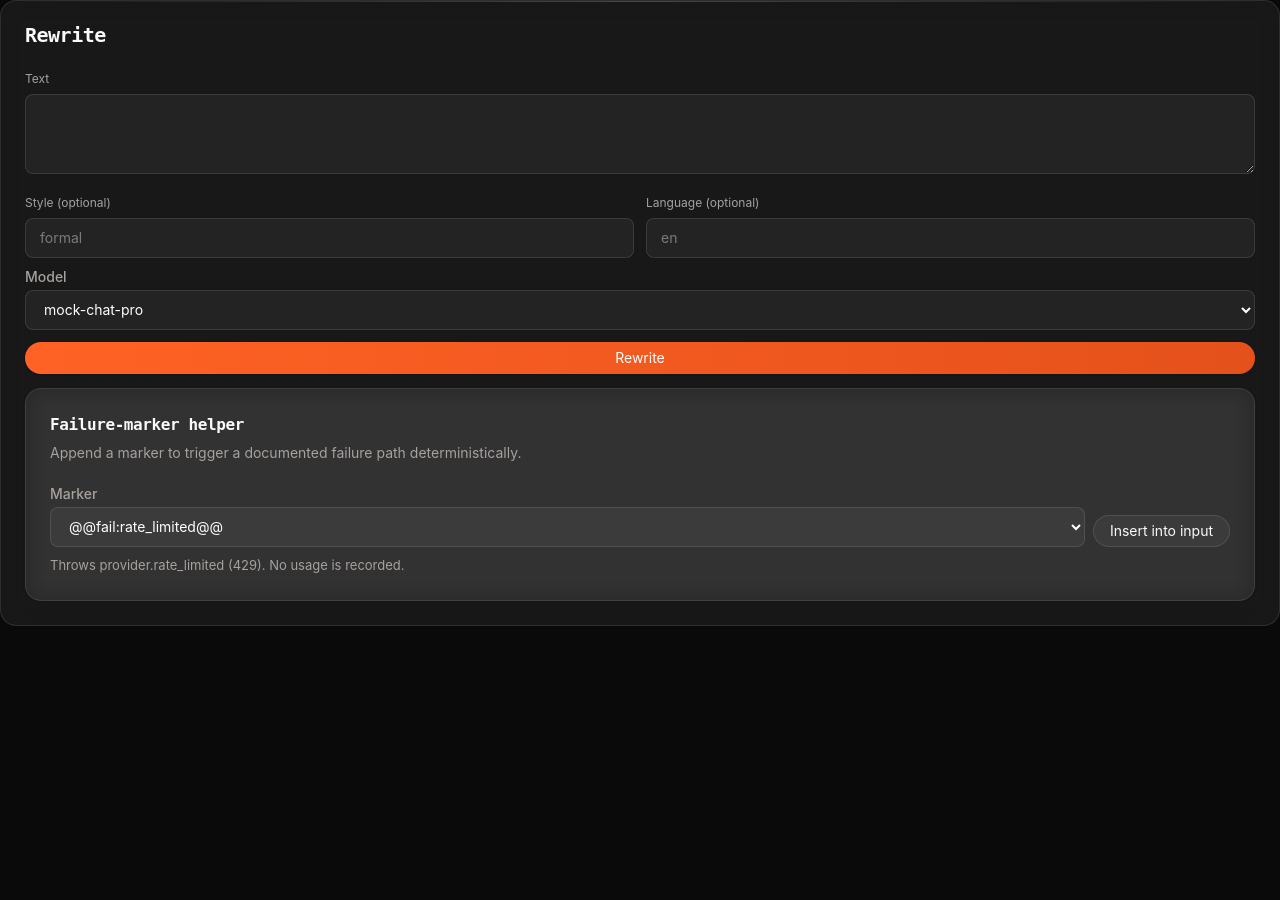
RewriteCard › renders the error envelope on a rejection
In the text box labelled "Text": (640, 134) [25,94,1255,174], type "original text"
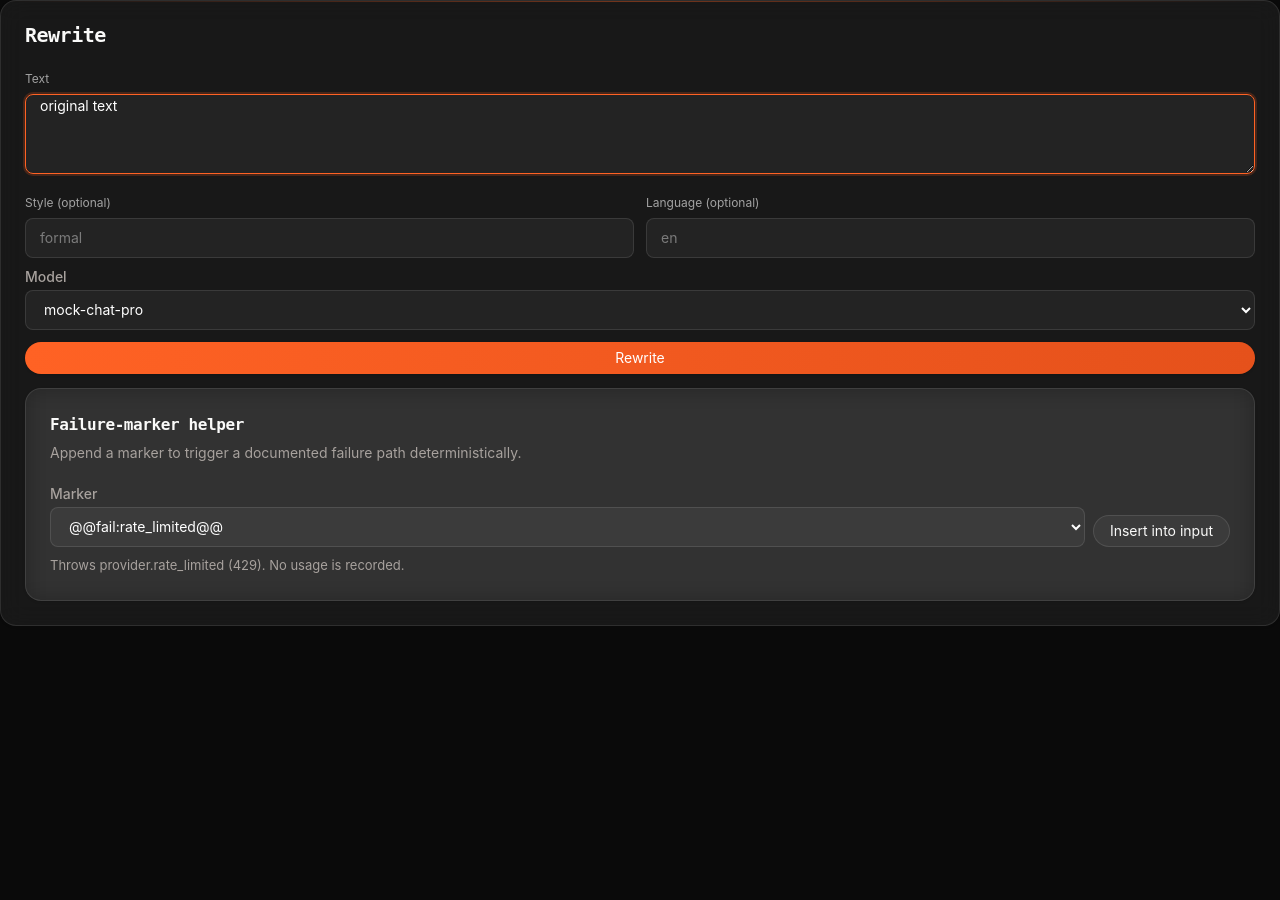
Click the button "Rewrite": (640, 358) [25,342,1255,374]
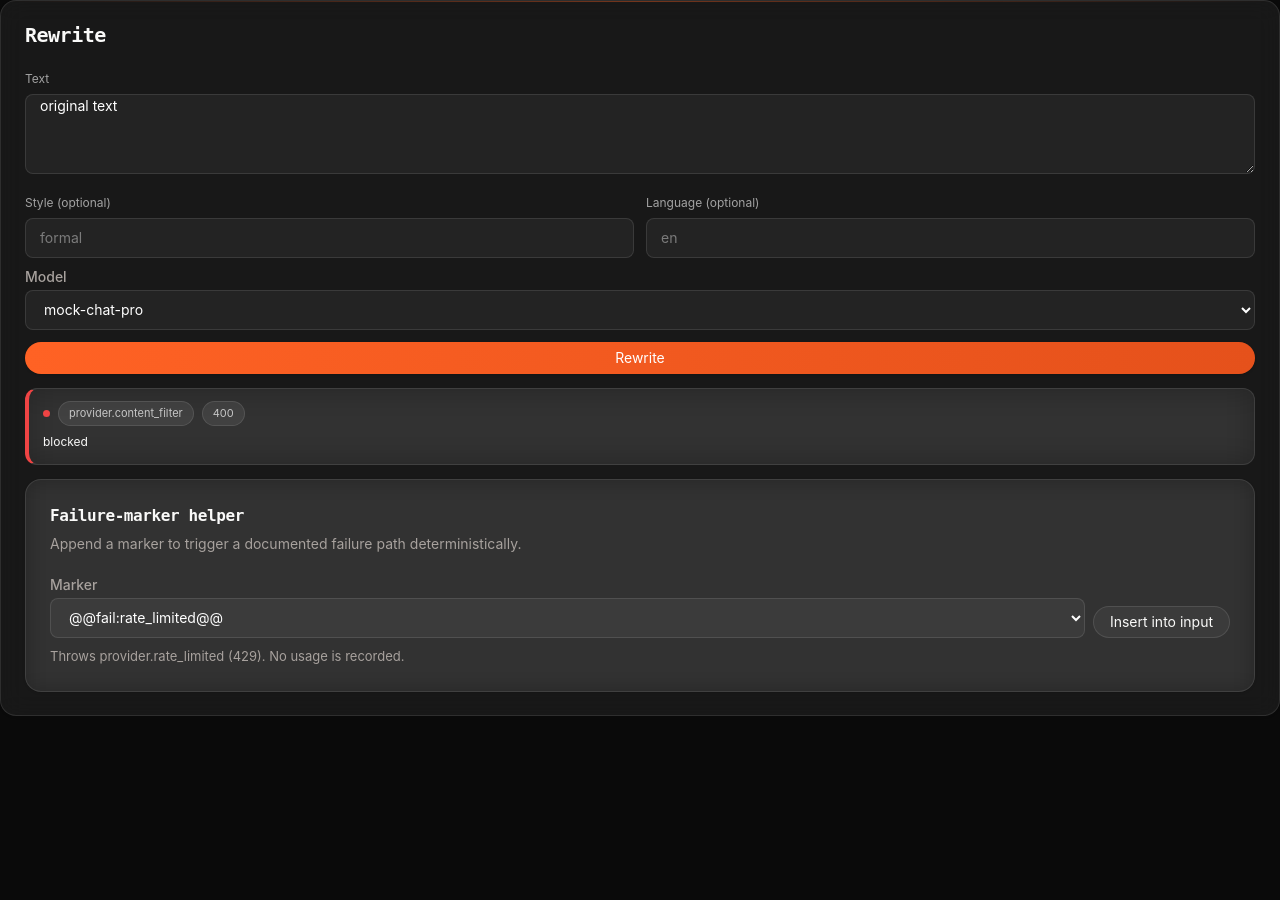
Result: the message shows "blocked" at [43,434,88,449]
